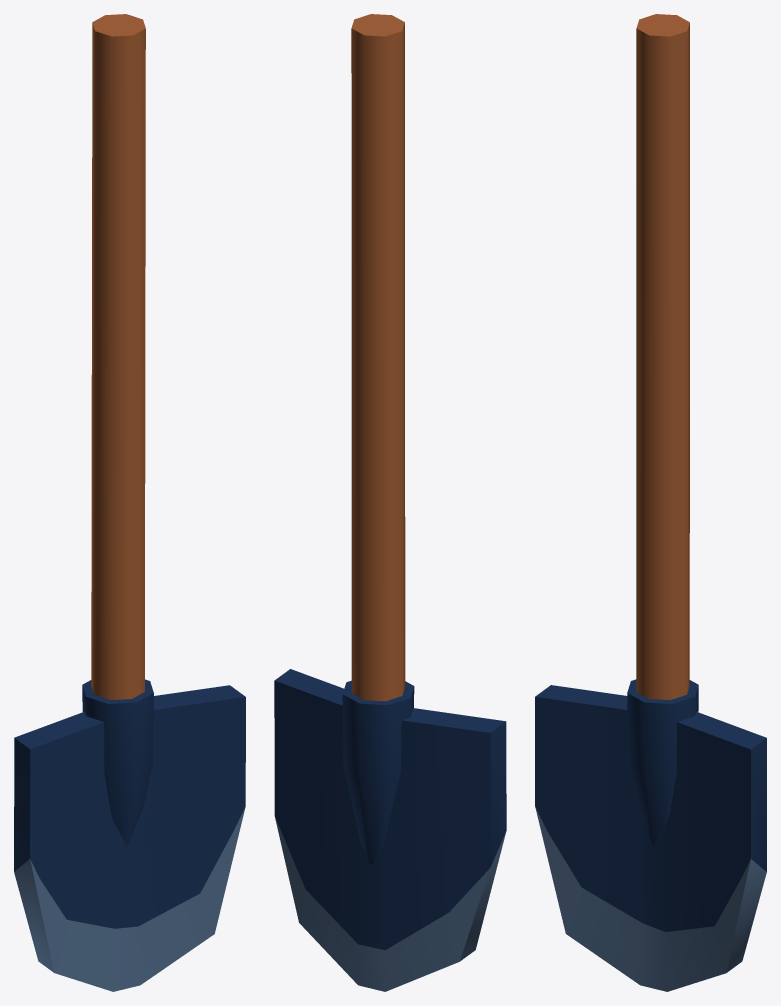
The model's file is spade.fbx.
3 renders of one model, left to right at view 1: azimuth 30°, elevation 25°; view 2: azimuth 150°, elevation 25°; view 3: azimuth 330°, elevation 25°, orthographic.
Parts seen in each view (by area): view 1: Cylinder.008; view 2: Cylinder.008; view 3: Cylinder.008.
Part boxes in pixels (x1,y1,x2,y2): Cylinder.008: (14,14,245,991); Cylinder.008: (274,14,506,991); Cylinder.008: (535,14,766,991).
Size of the model in its own units: 0.6699 by 2.84 by 0.2072.
